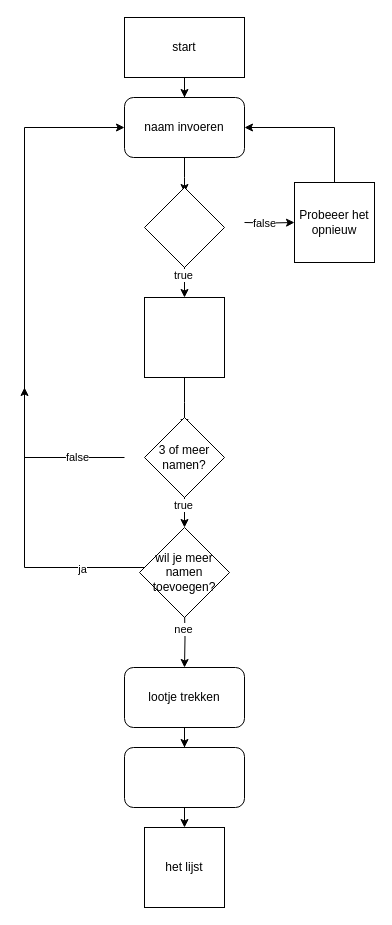
This 392x925 diagram has some shape labels left out. Here are the shapes that lost their labels. From the top down, the centre of each, then its label:
At point 184,227: "uniek naam?".
At point 184,337: "naam toevoegen".
At point 184,777: "chcken".
